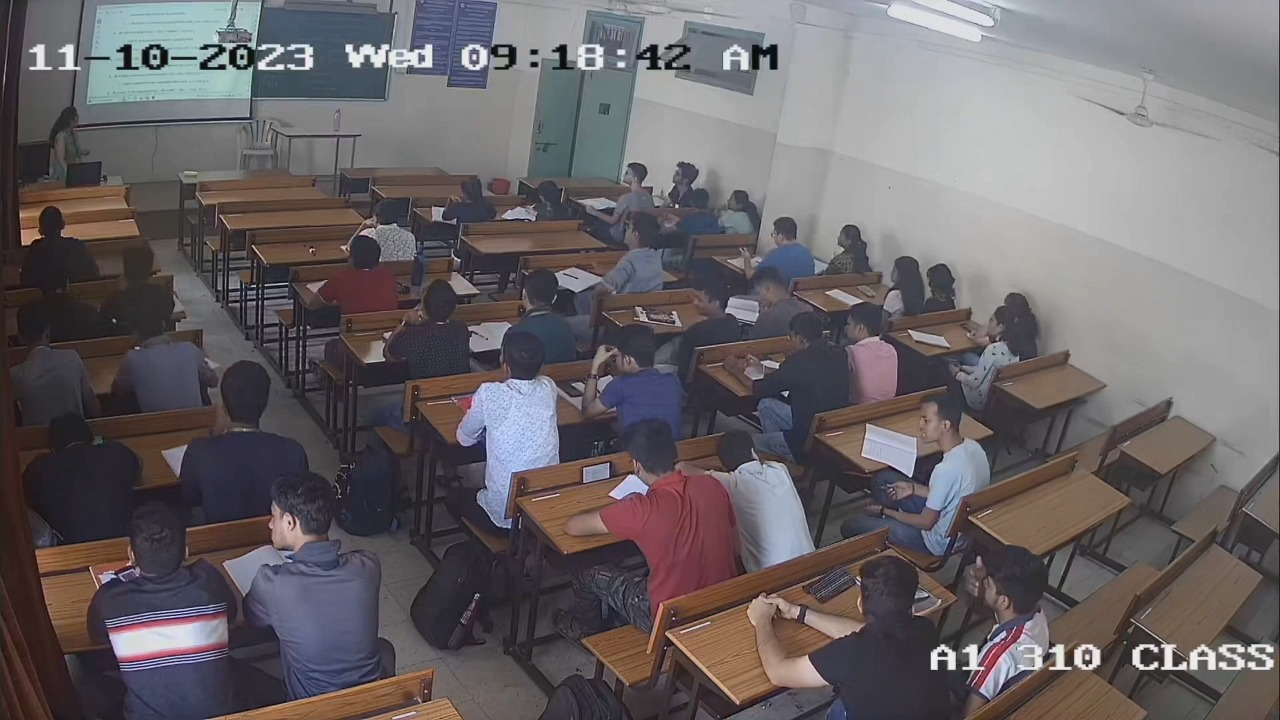cell-phones: (580, 460, 613, 485), (555, 378, 583, 399)
person: (617, 417, 724, 585), (589, 323, 682, 437)
